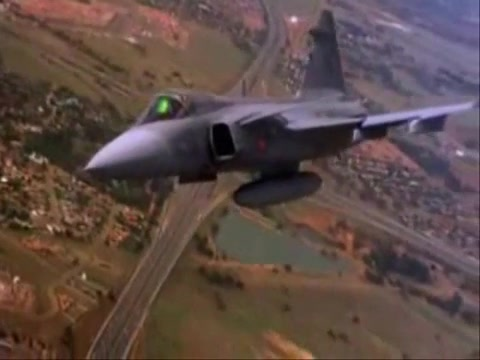aeroplane: (82, 12, 479, 209)
